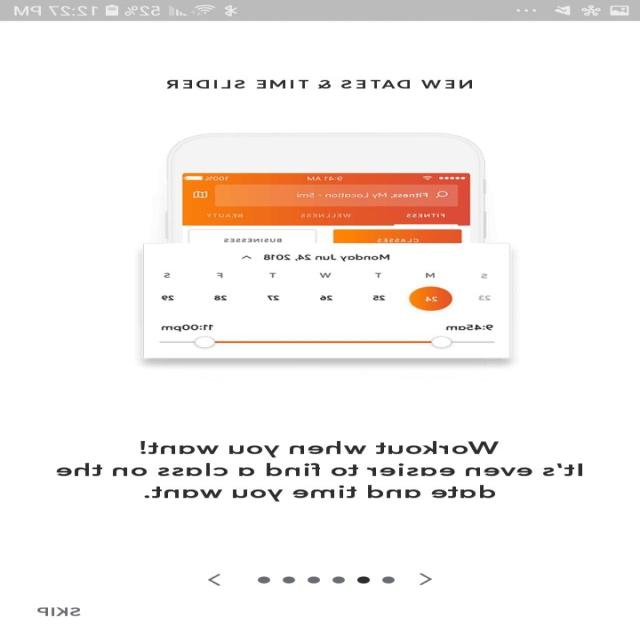Icon: (419, 572, 434, 585), (208, 573, 222, 586)
Image: (143, 133, 513, 359)
Text: (57, 439, 583, 502), (167, 80, 473, 89), (37, 607, 82, 616)
